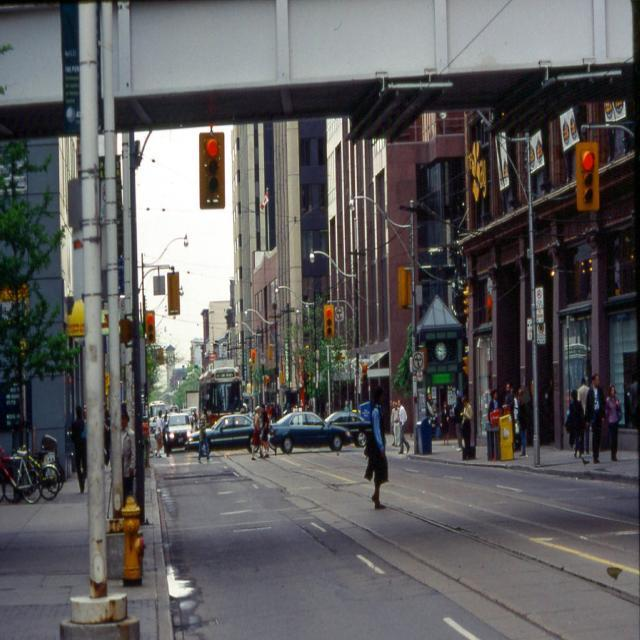traffic light: (199, 129, 225, 207), (144, 311, 157, 348), (322, 303, 335, 338)
